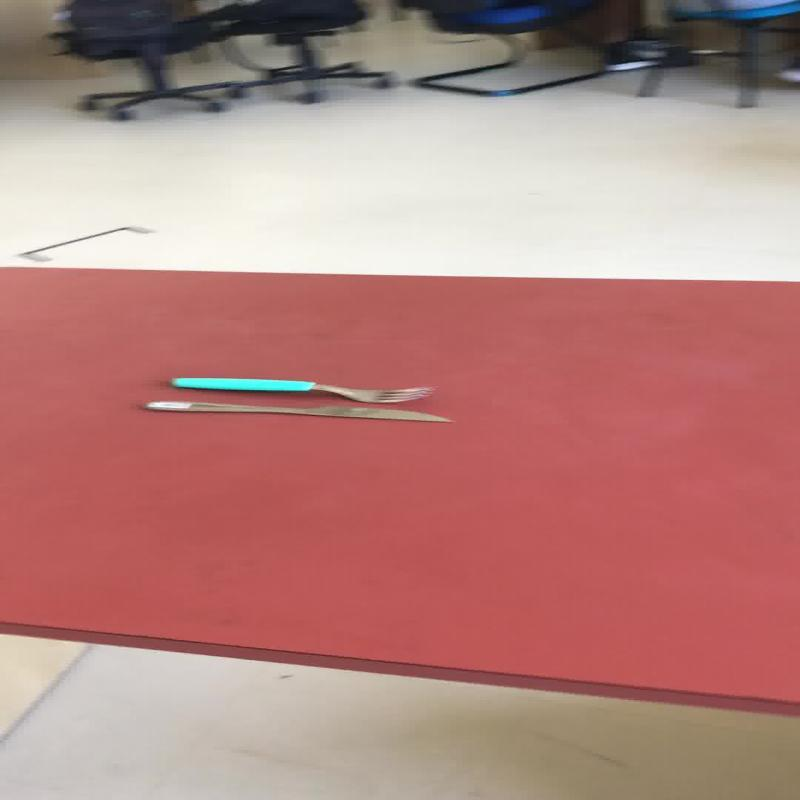fork: (168, 376, 435, 404)
knife: (141, 399, 454, 423)
